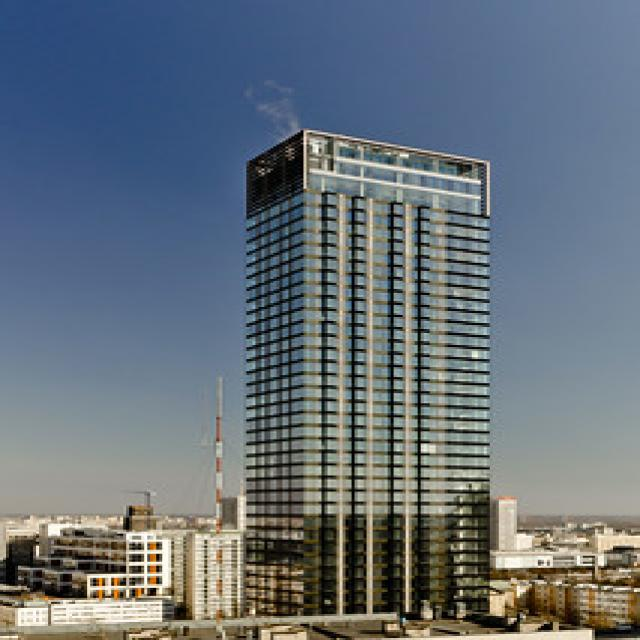Normal_building: (236, 126, 500, 636)
